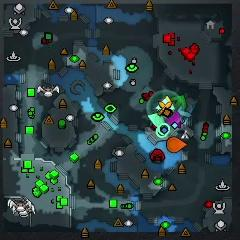Other: (155, 99, 174, 116)
p2: (148, 112, 167, 129)
p2Clone: (159, 123, 169, 135), (156, 128, 166, 138)
p3: (167, 111, 182, 128)
p5: (167, 137, 186, 154)
x3: (176, 105, 192, 119)
x4: (169, 95, 187, 111)
